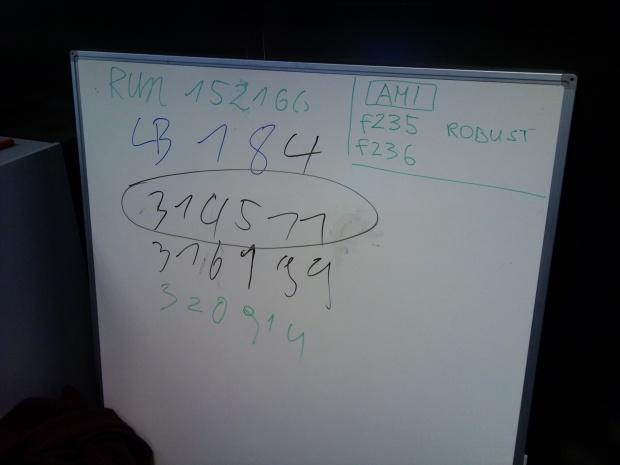Whiteboard: (66, 47, 577, 464)
